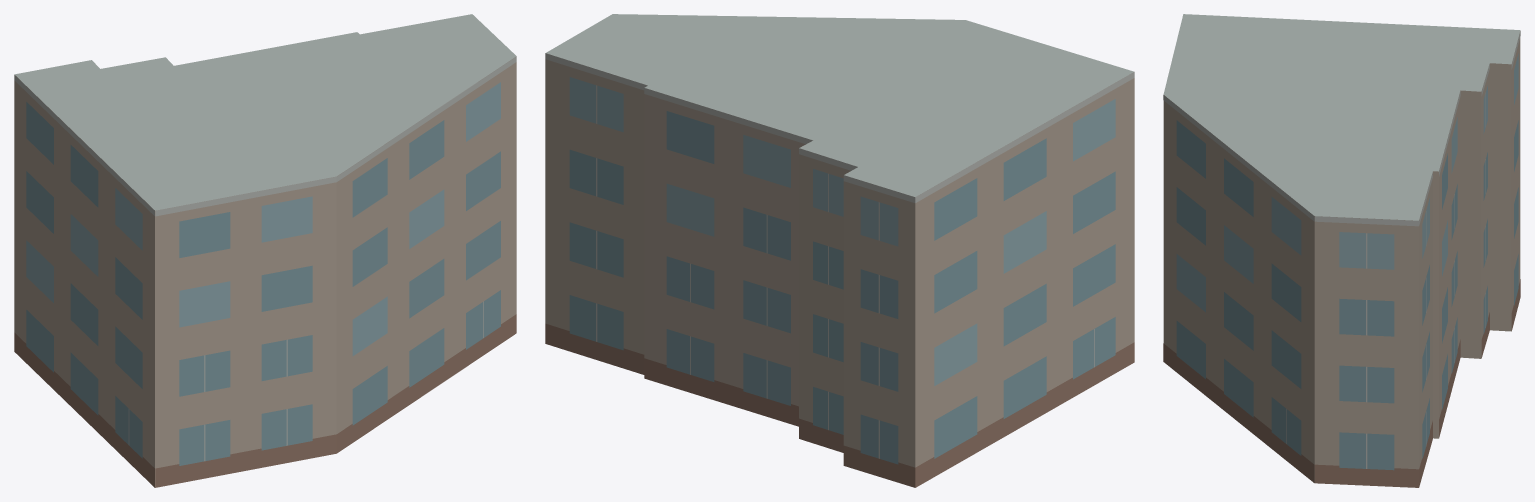
Rendered from survey-upis-32747177.glb.
3 views of the same model, side by side, from view 1: azimuth 30°, elevation 25°; view 2: azimuth 150°, elevation 25°; view 3: azimuth 270°, elevation 25° (orthographic). The views are drawn at different scales.
Parts seen in each view (by area): view 1: survey-upis-32747177.tmp; view 2: survey-upis-32747177.tmp; view 3: survey-upis-32747177.tmp.
Part boxes in pixels (x1,y1,x2,y2): survey-upis-32747177.tmp: (14, 14, 516, 487); survey-upis-32747177.tmp: (545, 14, 1134, 487); survey-upis-32747177.tmp: (1163, 14, 1520, 487).
Bounding box in the file's own units: 19.26 × 11.6 × 14.06.
